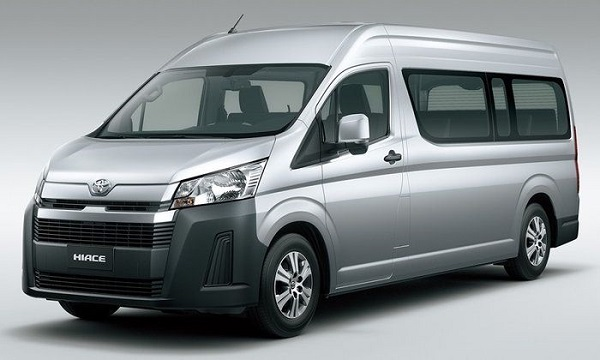van: (20, 21, 582, 338)
